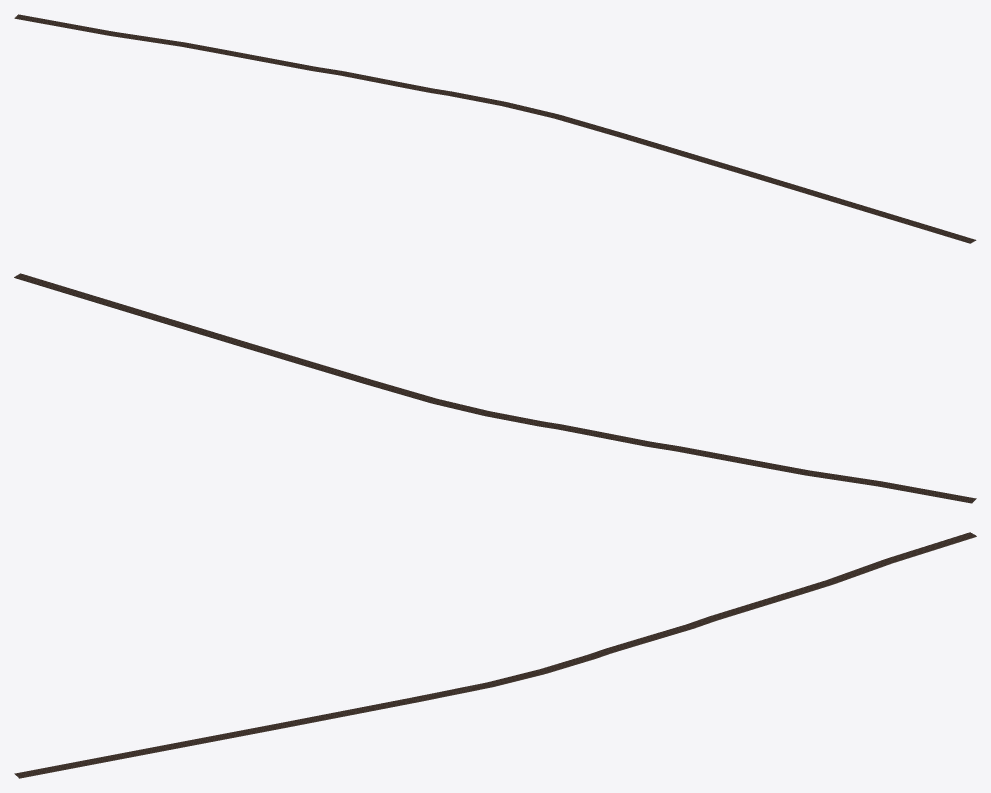
The model's file is kobe_0004.glb.
3 views of the same model, one above another, from view 1: azimuth 30°, elevation 25°; view 2: azimuth 210°, elevation 25°; view 3: azimuth 270°, elevation 25° (orthographic).
Visible parts, largest first — view 1: ballast_top, oxidised_rail_profiles; view 2: ballast_top, oxidised_rail_profiles, ballast_left; view 3: ballast_top, oxidised_rail_profiles, ballast_left.
Boxes of the visible parts, x1,y1,x2,y2 form: ballast_top: (14,14,976,243); oxidised_rail_profiles: (15,14,975,242); ballast_top: (14,273,976,502); oxidised_rail_profiles: (15,273,975,501); ballast_left: (14,277,972,503); ballast_top: (15,532,975,777); oxidised_rail_profiles: (15,532,975,776); ballast_left: (19,536,976,778).
Size of the model in its own units: 392 by 0.819 by 648.
Materials: 4 (3 with a texture image).
